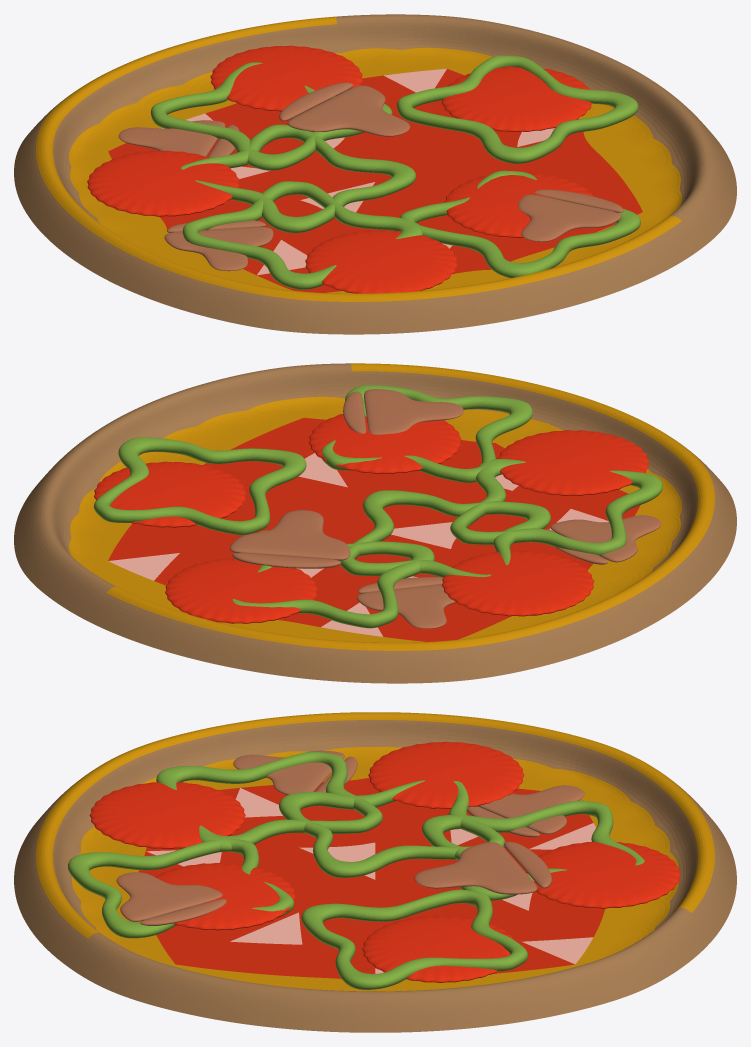
The model's file is Pizza.fbx.
3 views of the same model, one above another, from view 1: azimuth 30°, elevation 25°; view 2: azimuth 150°, elevation 25°; view 3: azimuth 270°, elevation 25° (orthographic). The views are drawn at different scales.
Parts seen in each view (by area): view 1: Cylinder.004; view 2: Cylinder.004; view 3: Cylinder.004.
Boxes of the visible parts, box(x1,y1,x2,y2) form: Cylinder.004: box(14, 14, 736, 334); Cylinder.004: box(14, 363, 736, 683); Cylinder.004: box(14, 712, 736, 1032).
Bounding box in the file's own units: 6.85 × 0.286 × 6.85.
